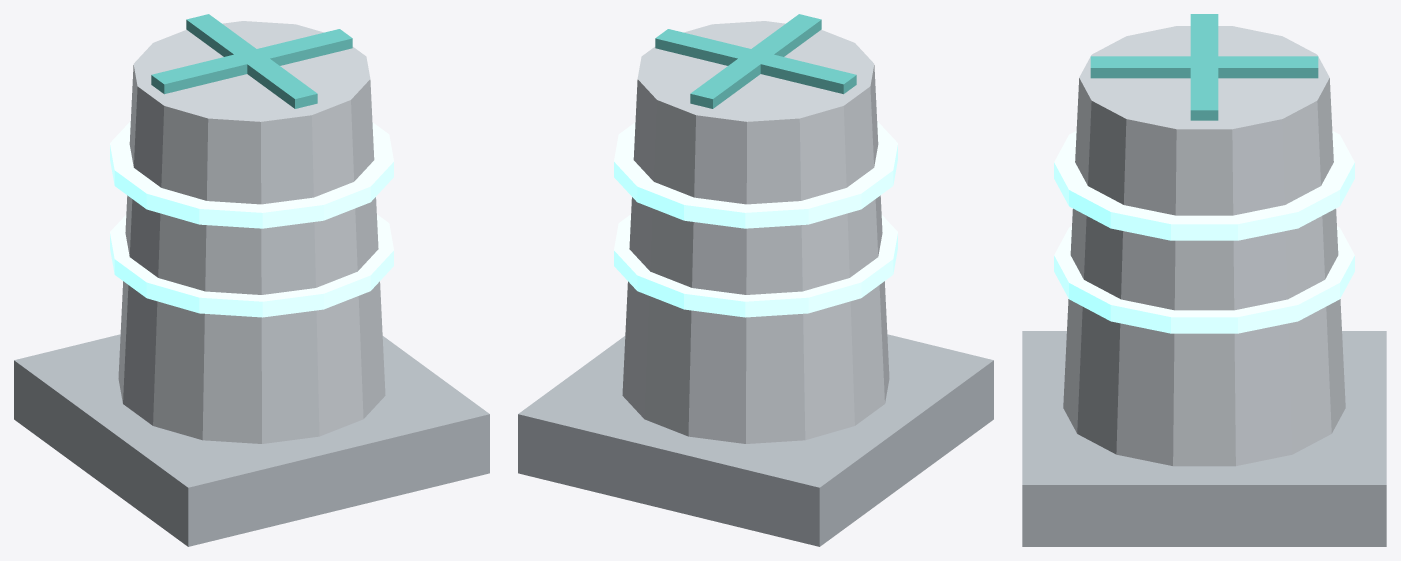
File: capture.glb
The picture shows the model from 3 angles, left to right: view 1: azimuth 30°, elevation 25°; view 2: azimuth 150°, elevation 25°; view 3: azimuth 270°, elevation 25°; orthographic projection. The views are drawn at different scales.
Parts seen in each view (by area): view 1: cyl, box.001, cyl.002, cyl.001, box.002, box; view 2: cyl, box.001, cyl.002, cyl.001, box.002, box; view 3: cyl, box.001, cyl.002, cyl.001, box, box.002.
Boxes of the visible parts, <box> form: cyl: <box>118,21,385,443</box>; box.001: <box>14,334,489,546</box>; cyl.002: <box>110,121,393,228</box>; cyl.001: <box>110,214,393,317</box>; box.002: <box>151,29,352,94</box>; box: <box>186,14,317,108</box>; cyl: <box>622,21,889,443</box>; box.001: <box>518,334,993,546</box>; cyl.002: <box>614,121,897,228</box>; cyl.001: <box>614,214,897,317</box>; box.002: <box>655,29,856,94</box>; box: <box>690,14,821,108</box>; cyl: <box>1063,26,1345,466</box>; box.001: <box>1022,331,1386,546</box>; cyl.002: <box>1054,131,1354,240</box>; cyl.001: <box>1054,226,1354,333</box>; box: <box>1090,56,1318,78</box>; box.002: <box>1190,14,1218,120</box>.
Size of the model in its own units: 1.6 by 1.98 by 1.6.
